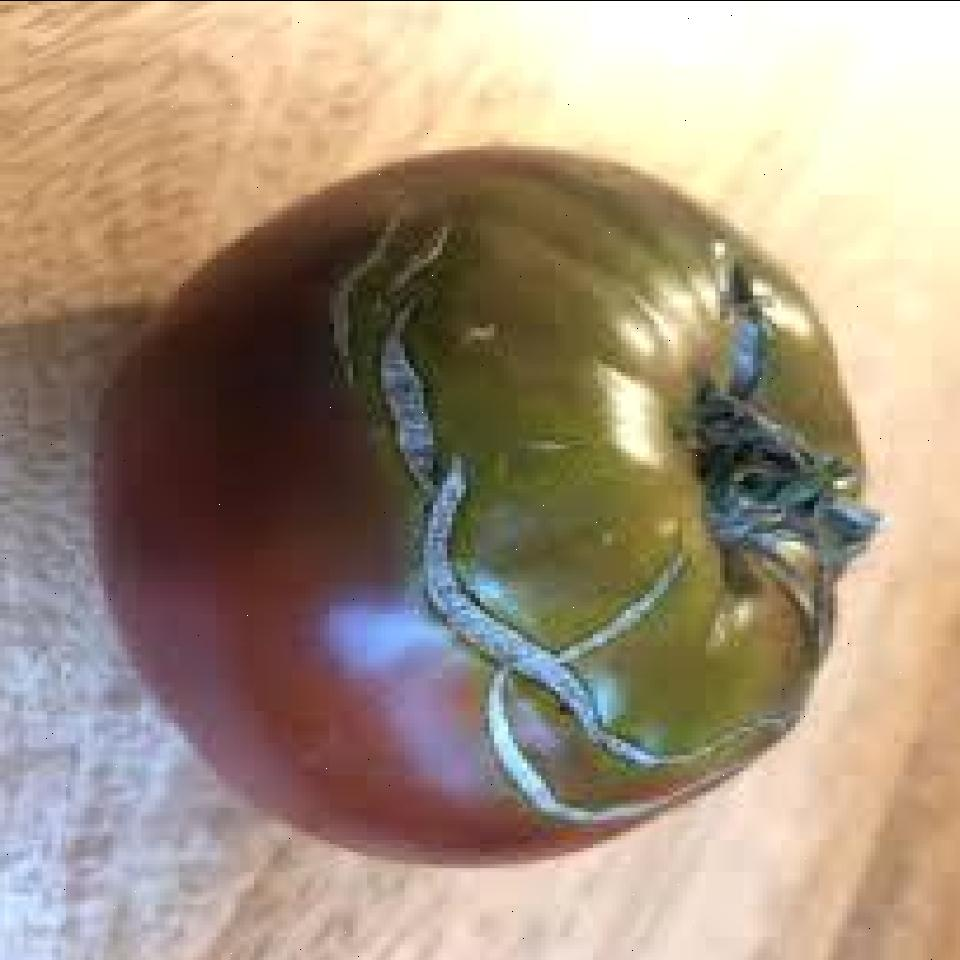Cracking: (365, 469, 800, 841), (329, 169, 548, 593), (656, 224, 794, 476)
